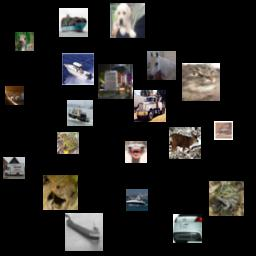automobile: (173, 214, 202, 243)
bird: (125, 141, 147, 163), (15, 32, 34, 51)
cat: (182, 63, 220, 101), (214, 121, 233, 140)
deer: (169, 127, 201, 159)
dog: (110, 3, 145, 38)
frog: (43, 175, 78, 210), (209, 181, 244, 216), (57, 132, 79, 154)
ship: (65, 213, 103, 251), (62, 53, 94, 85), (59, 8, 88, 37), (67, 100, 93, 126), (126, 189, 148, 211)
truck: (98, 64, 133, 99), (134, 90, 166, 122), (3, 157, 25, 179)
